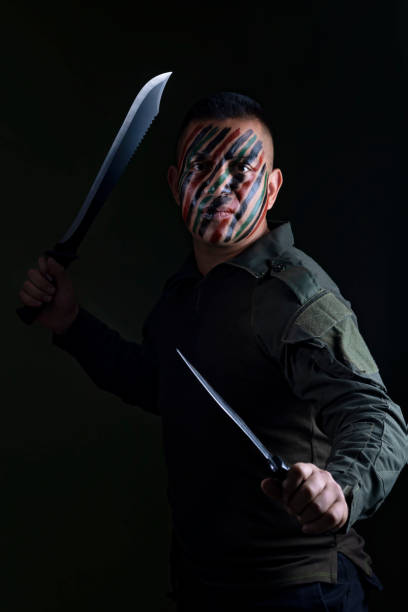knife: (15, 69, 178, 326), (171, 346, 291, 476)
